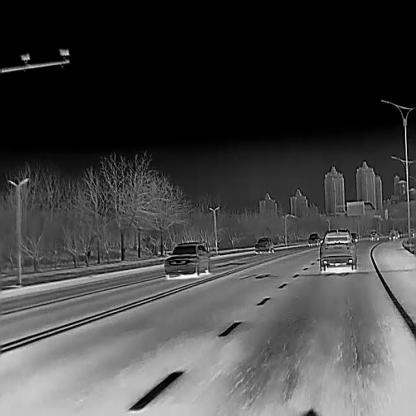car: (163, 241, 210, 277), (319, 228, 358, 271), (254, 236, 273, 252), (308, 232, 319, 245), (388, 228, 399, 239), (370, 230, 378, 240), (350, 232, 358, 242)
